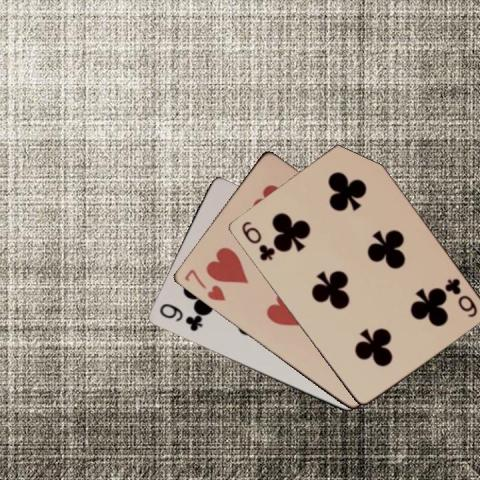6c: (238, 218, 276, 263), (440, 275, 478, 319)
7h: (180, 266, 226, 303)
9c: (156, 301, 204, 333)
